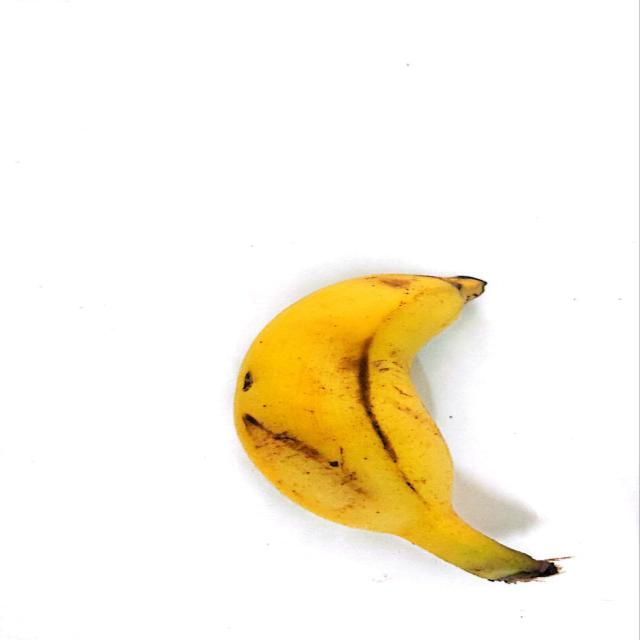fresh_banana: (236, 274, 563, 582)
